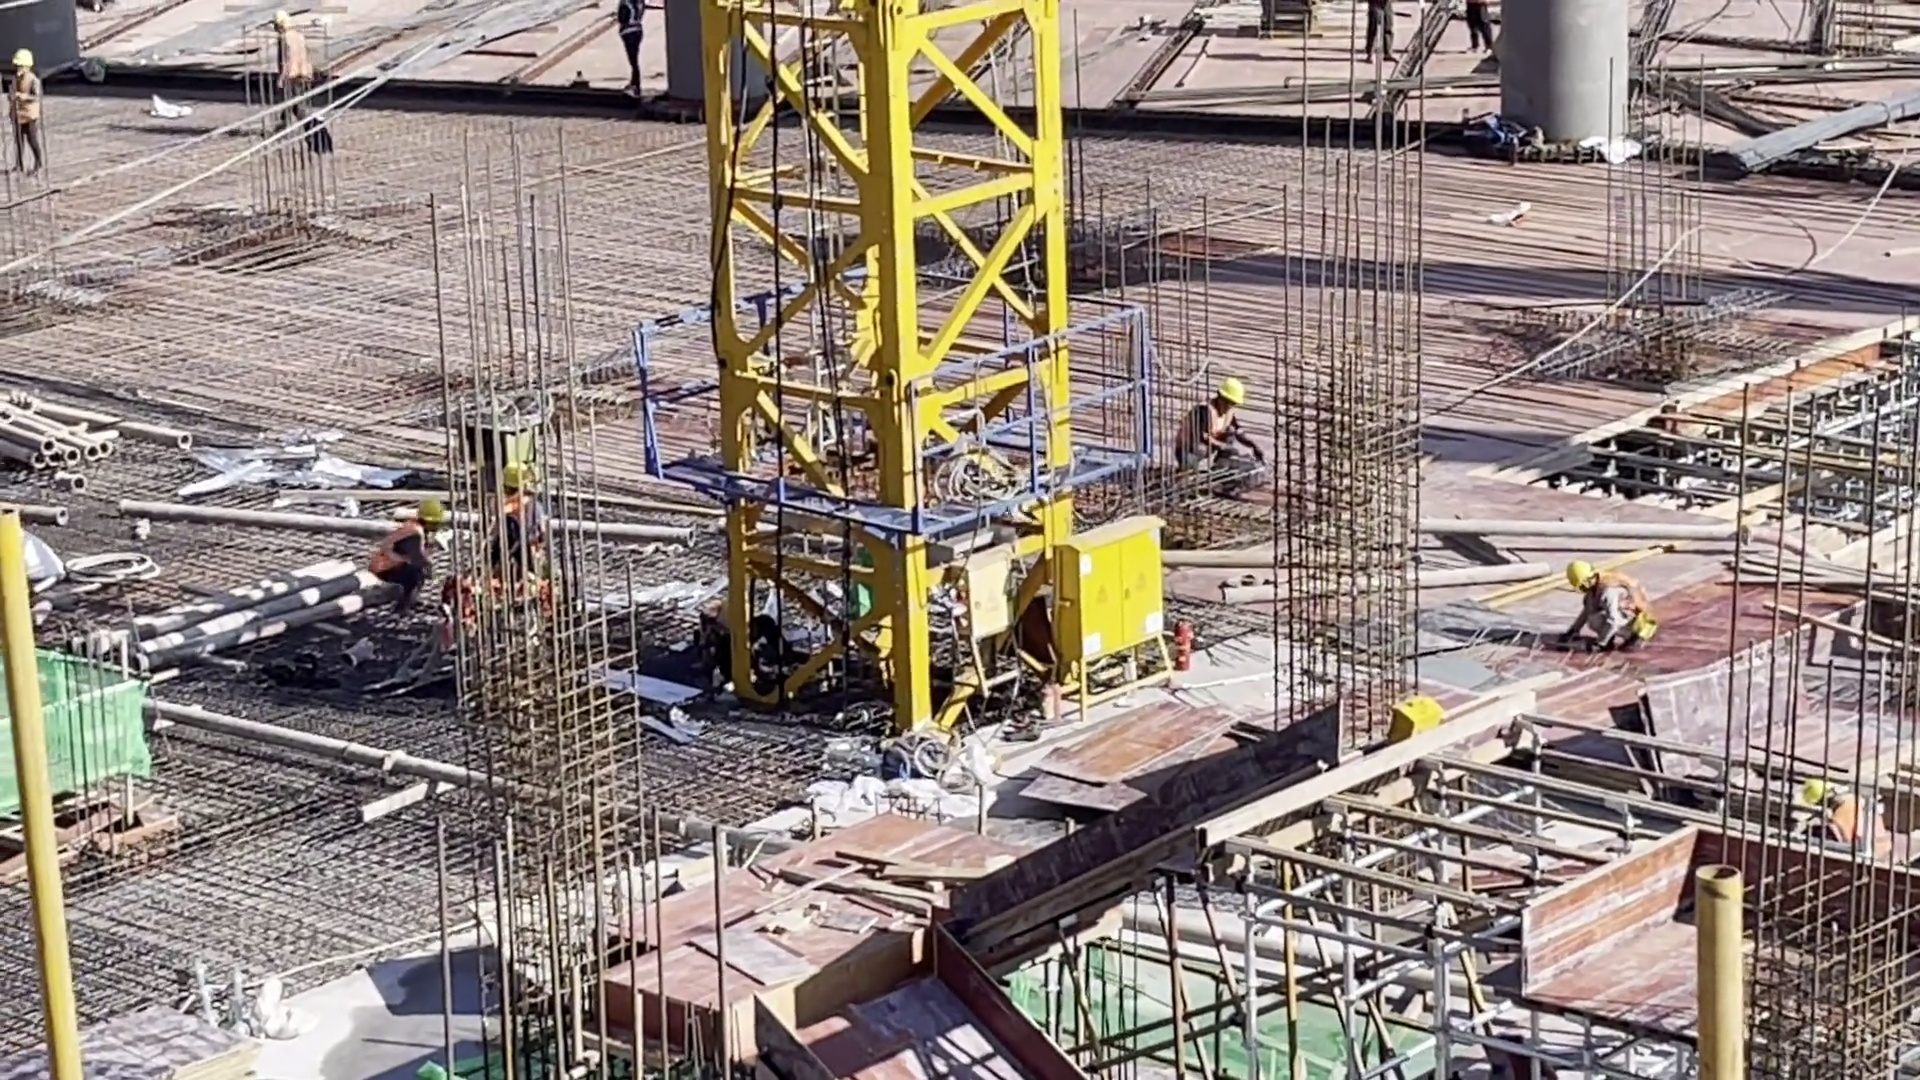ebox: (1052, 513, 1186, 724), (952, 550, 1018, 707), (1385, 696, 1449, 744)
helmet: (1216, 376, 1247, 409), (1561, 564, 1592, 595), (417, 494, 446, 521), (270, 7, 293, 31)
person: (1167, 375, 1268, 482), (1558, 556, 1668, 653), (371, 494, 451, 613), (1793, 775, 1890, 856), (264, 1, 315, 126), (5, 47, 47, 170), (612, 1, 647, 91), (1364, 1, 1402, 64), (1458, 1, 1497, 53)
rebar: (1696, 62, 1920, 186)
vest: (1172, 404, 1237, 471), (1594, 575, 1657, 639), (370, 525, 431, 585), (268, 28, 301, 89)
